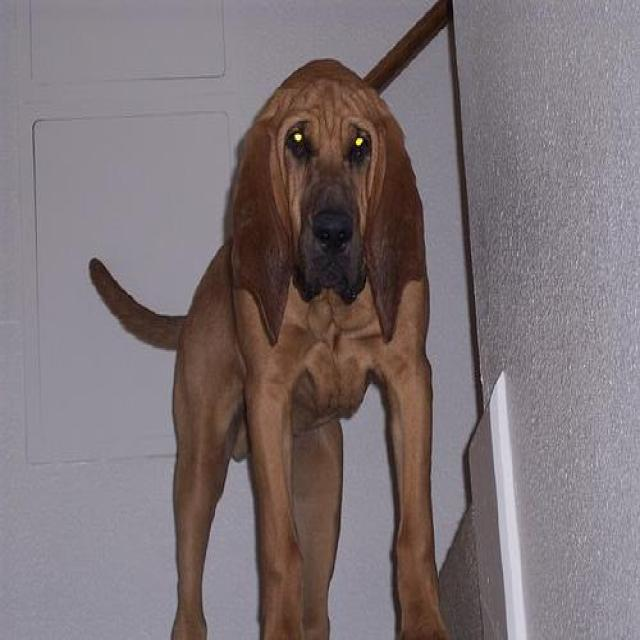bloodhound: (86, 56, 458, 638)
